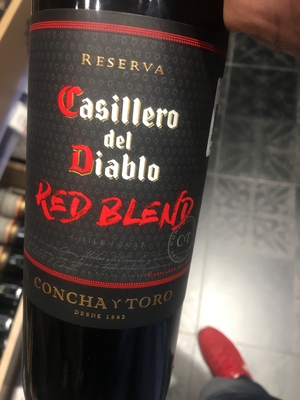casillero del diablo red blend: (23, 12, 230, 400)
